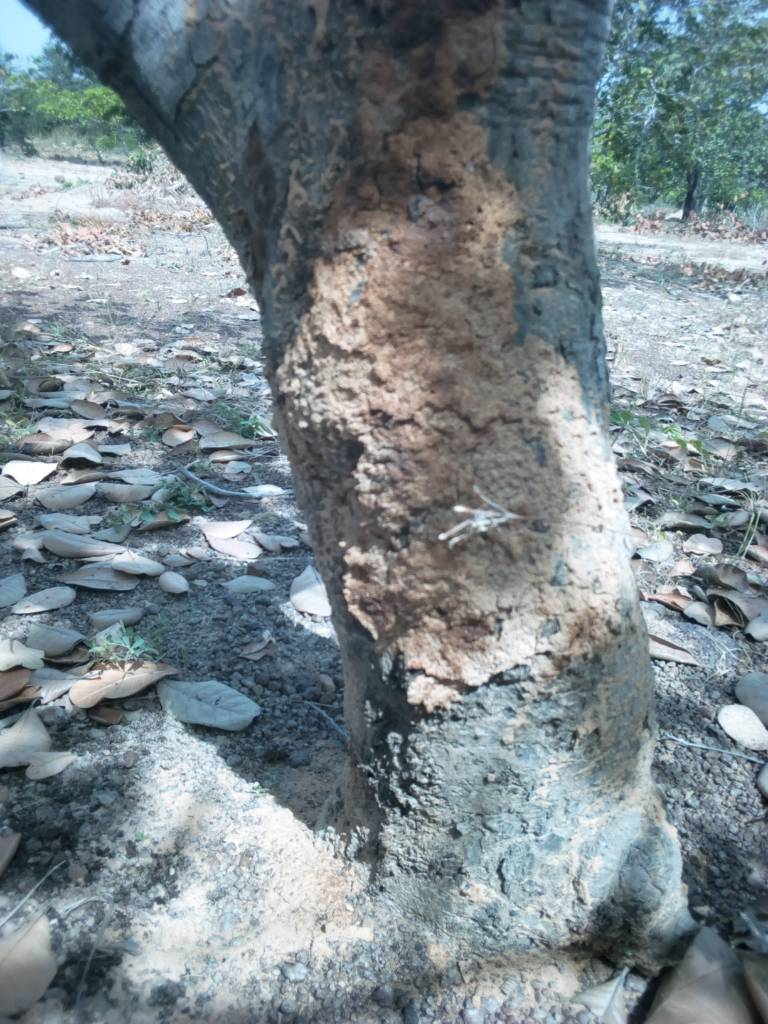Termites: (358, 16, 629, 689), (269, 321, 371, 574)
